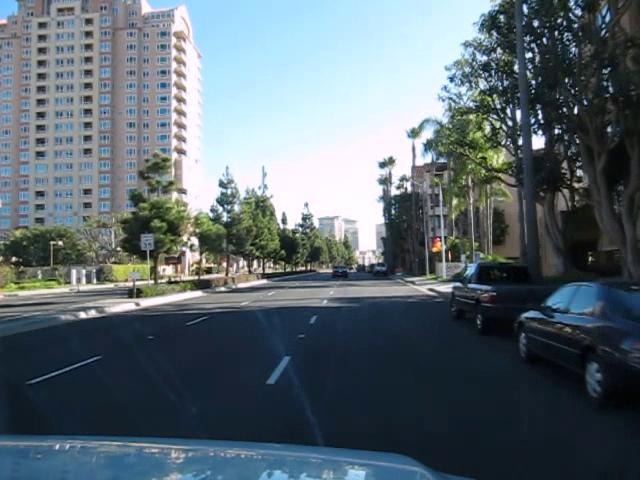speedLimit35: (139, 232, 154, 251)
